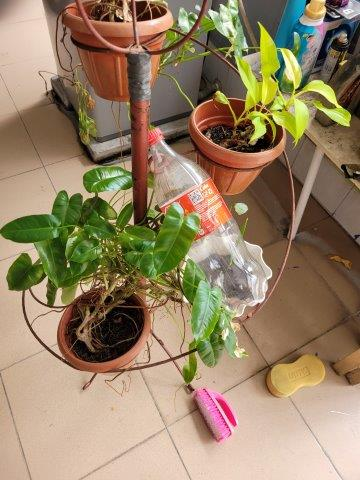botolplastik: (148, 130, 268, 315)
